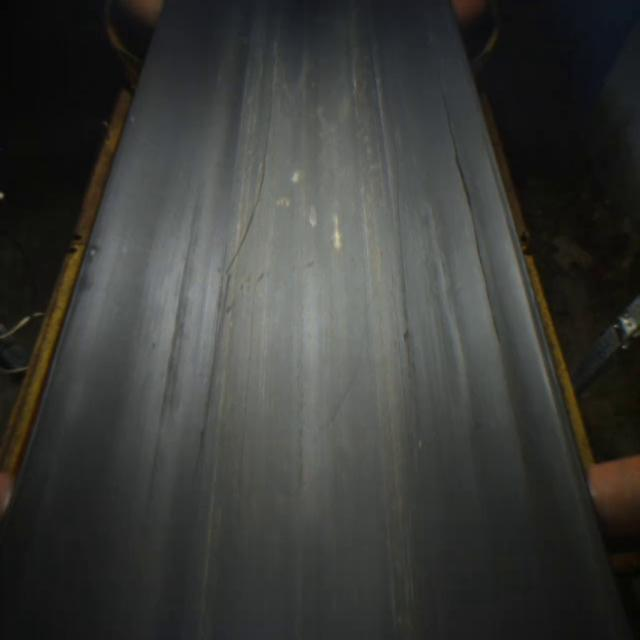Tear: (189, 81, 286, 476), (426, 76, 509, 356)
